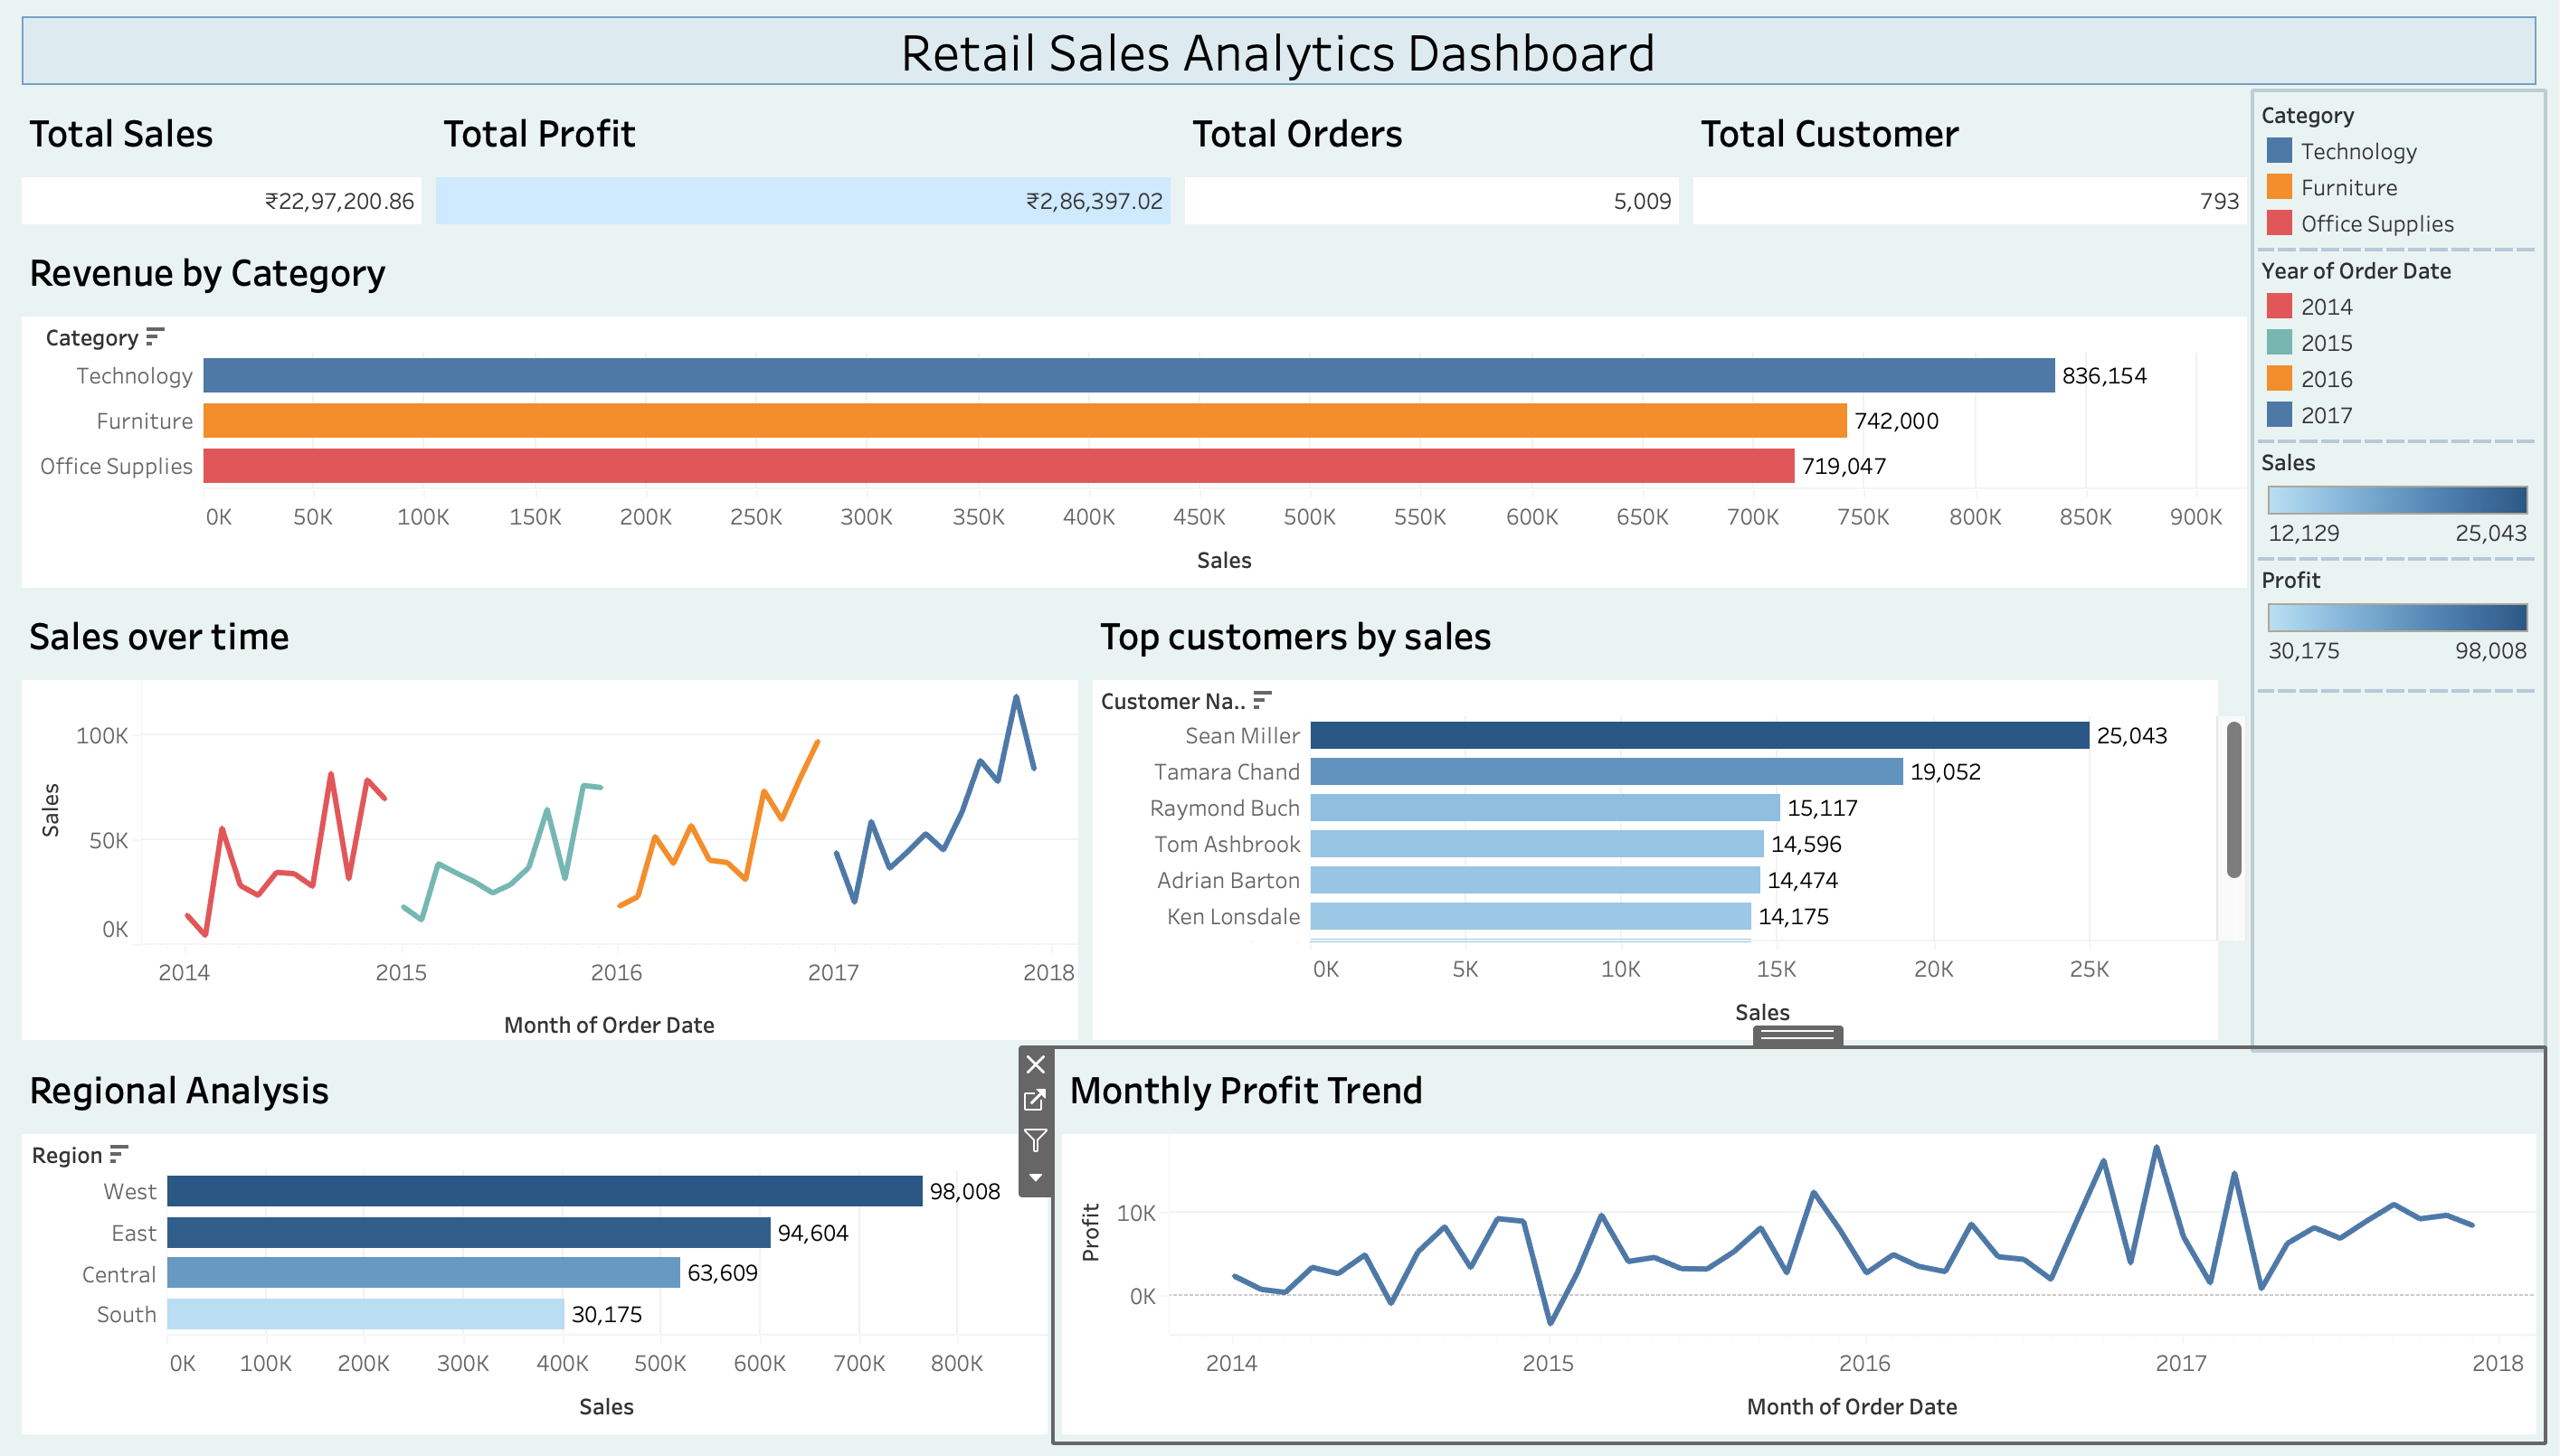

The page's visual inventory and layout, read from the dashboard file:
{"tool":"tableau","page":{"name":"Dashboard 1","canvas":[1000,1000],"units":"permille","ordinal":0},"visuals":[{"type":"title","box":[5.7,9.9,988.7,56.9]},{"type":"worksheet","title":"total sales ","mark":"Automatic","box":[5.7,66.8,162,95.9]},{"type":"worksheet","title":"total profit","mark":"Automatic","box":[167.6,66.8,292.8,95.9]},{"type":"worksheet","title":"total orders","mark":"Automatic","box":[460.4,66.8,198.7,95.9]},{"type":"worksheet","title":"total customer","mark":"Automatic","box":[659.1,66.8,222.1,95.9]},{"type":"legend","title":"Revenue by Category","param":"[federated.0nu4v9t1mh4uwj1f0e68n0wa7hew].[none:Category:nk]","box":[881.2,66.8,113.2,106.4]},{"type":"worksheet","title":"Revenue by Category","mark":"Automatic","rows":["Category"],"cols":["Sales"],"box":[5.7,162.7,875.5,248.8]},{"type":"legend","title":"Sales over time","param":"[federated.0nu4v9t1mh4uwj1f0e68n0wa7hew].[yr:Order Date:ok]","box":[881.2,173.3,113.2,131.2]},{"type":"legend","title":"top customers","param":"[federated.0nu4v9t1mh4uwj1f0e68n0wa7hew].[sum:Sales:qk]","box":[881.2,304.4,113.2,80.4]},{"type":"legend","title":"regional analysis","param":"[federated.0nu4v9t1mh4uwj1f0e68n0wa7hew].[sum:Profit:qk]","box":[881.2,384.9,113.2,90.4]},{"type":"worksheet","title":"Sales over time","mark":"Automatic","rows":["Sales"],"cols":["Order Date"],"box":[5.7,411.5,418.7,309.9]},{"type":"worksheet","title":"top customers","mark":"Automatic","rows":["Customer Name"],"cols":["Sales"],"box":[424.3,411.5,456.9,309.9]},{"type":"worksheet","title":"regional analysis","mark":"Automatic","rows":["Region"],"cols":["Sales"],"box":[5.7,721.4,406.7,268.7]},{"type":"worksheet","title":"monthly profit trends","mark":"Automatic","rows":["Profit"],"cols":["Order Date"],"box":[412.3,721.4,582,268.7]}]}

Visuals, with their boxes on the dashboard's canvas, which has no fixed pixel size, in thousandths of its width and height (x1, y1, x2, y2). These are canvas units, not pixel positions in the 2560x1456 screenshot, which may show the page scaled, cropped or inside an application window:
title: (left=6, top=10, right=994, bottom=67)
"total sales " worksheet: (left=6, top=67, right=168, bottom=163)
"total profit" worksheet: (left=168, top=67, right=460, bottom=163)
"total orders" worksheet: (left=460, top=67, right=659, bottom=163)
"total customer" worksheet: (left=659, top=67, right=881, bottom=163)
"Revenue by Category" legend: (left=881, top=67, right=994, bottom=173)
"Revenue by Category" worksheet: (left=6, top=163, right=881, bottom=412)
"Sales over time" legend: (left=881, top=173, right=994, bottom=304)
"top customers" legend: (left=881, top=304, right=994, bottom=385)
"regional analysis" legend: (left=881, top=385, right=994, bottom=475)
"Sales over time" worksheet: (left=6, top=412, right=424, bottom=721)
"top customers" worksheet: (left=424, top=412, right=881, bottom=721)
"regional analysis" worksheet: (left=6, top=721, right=412, bottom=990)
"monthly profit trends" worksheet: (left=412, top=721, right=994, bottom=990)
